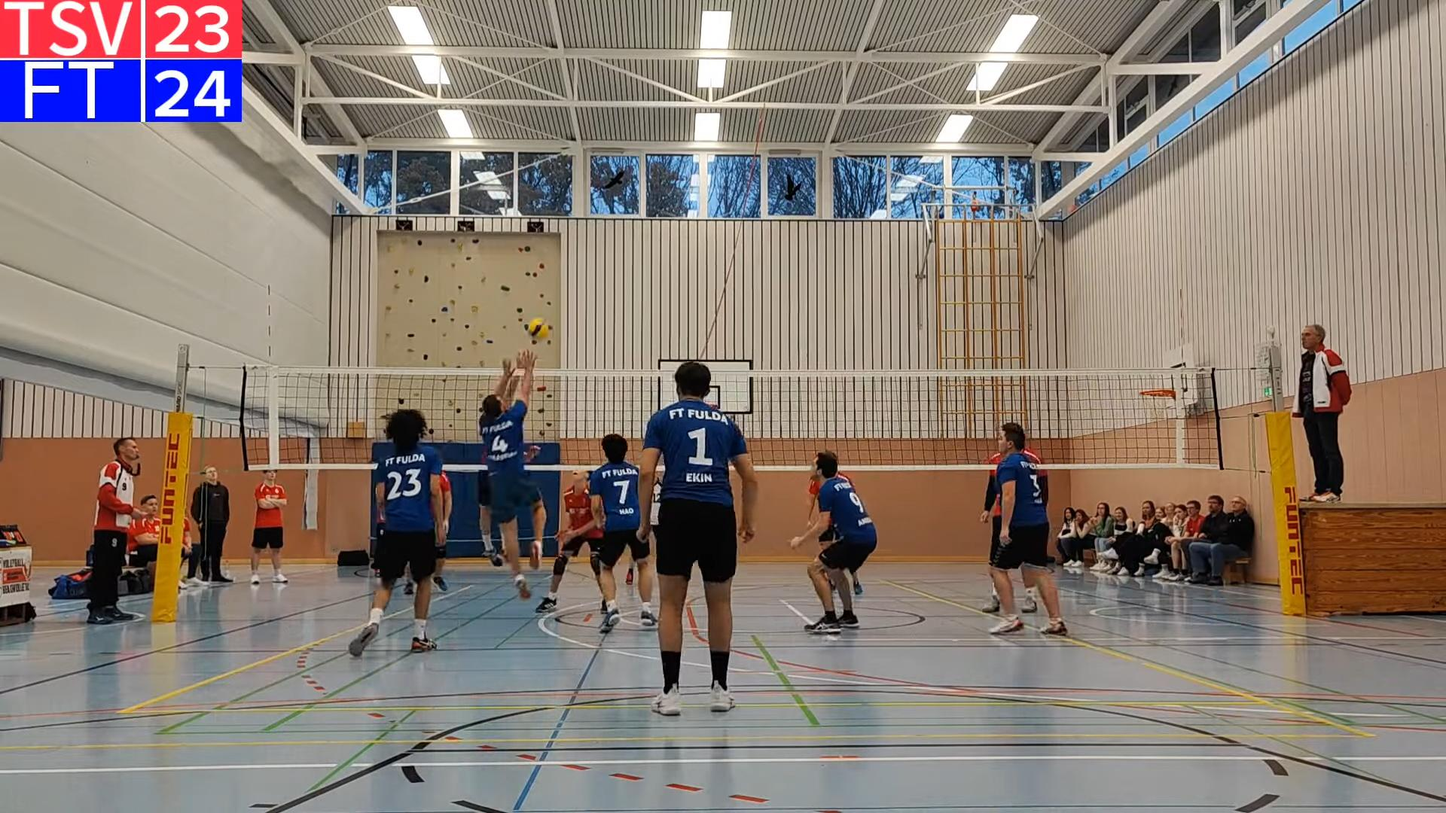Attack: (459, 363, 508, 566)
Block: (477, 350, 549, 603)
Player: (639, 361, 758, 715), (349, 410, 444, 656), (990, 422, 1067, 635), (790, 451, 876, 633), (590, 434, 656, 632), (535, 470, 602, 613), (432, 470, 453, 591), (980, 469, 1001, 560), (648, 466, 663, 549), (808, 467, 821, 522)
ball: (529, 318, 556, 336)
